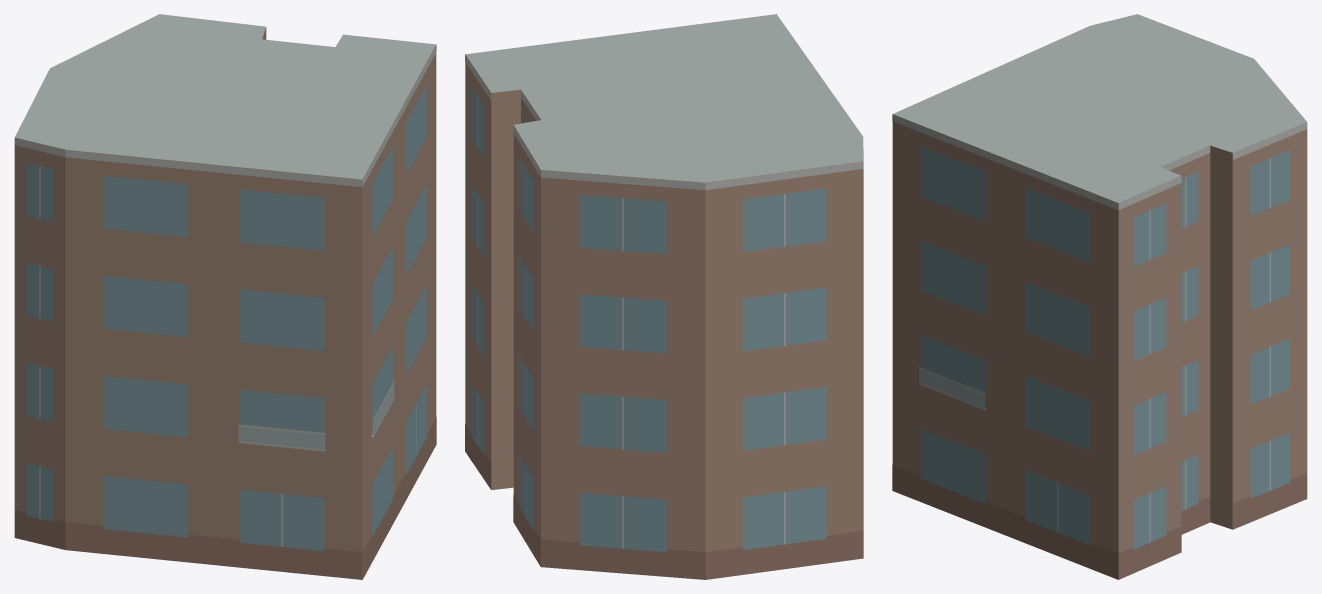
The model's file is survey-upis-32662247.glb.
3 renders of one model, left to right at view 1: azimuth 30°, elevation 25°; view 2: azimuth 150°, elevation 25°; view 3: azimuth 270°, elevation 25°, orthographic. The views are drawn at different scales.
Parts seen in each view (by area): view 1: survey-upis-32662247.tmp; view 2: survey-upis-32662247.tmp; view 3: survey-upis-32662247.tmp.
Boxes of the visible parts, bbox=[...] form: survey-upis-32662247.tmp: bbox=[14, 14, 436, 579]; survey-upis-32662247.tmp: bbox=[465, 14, 863, 579]; survey-upis-32662247.tmp: bbox=[892, 14, 1307, 579].
Bounding box in the file's own units: 13.78 × 12.8 × 12.78.
